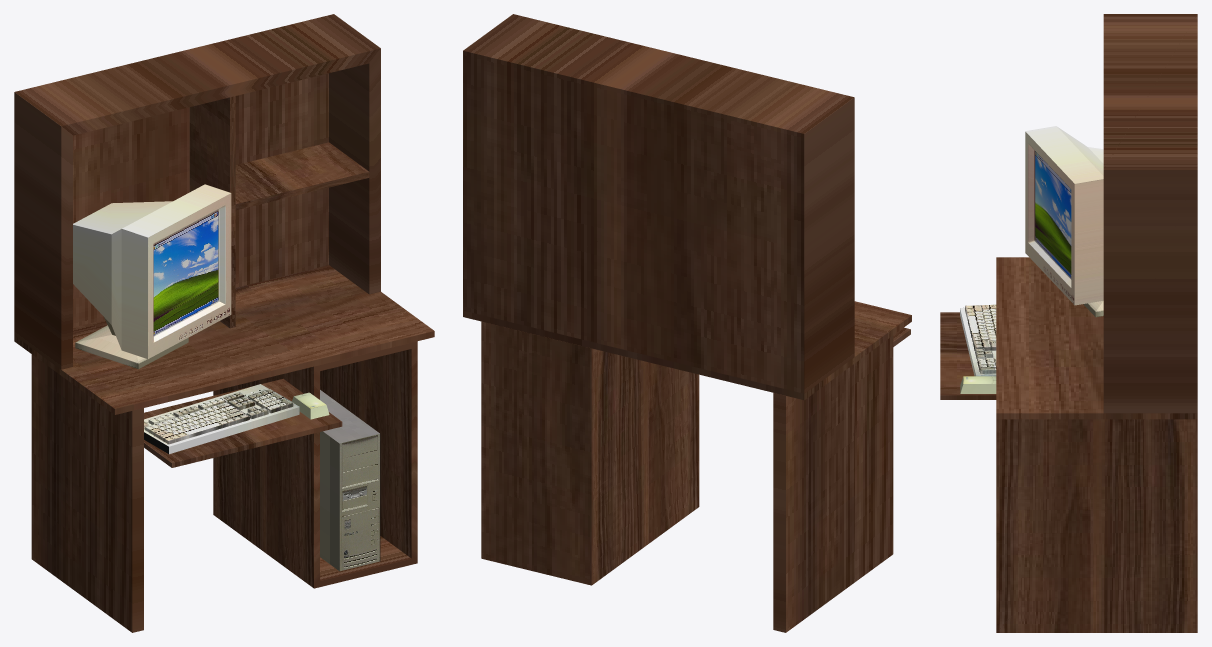
Rendered from computer_station.glb.
The picture shows the model from 3 angles, left to right: view 1: azimuth 30°, elevation 25°; view 2: azimuth 150°, elevation 25°; view 3: azimuth 270°, elevation 25°; orthographic projection. The views are drawn at different scales.
Parts seen in each view (by area): view 1: Object_8, Object_2, Object_6, Object_5, Object_4, Object_7, Object_3; view 2: Object_8, Object_2; view 3: Object_8, Object_2, Object_6, Object_4, Object_3.
Part boxes in pixels (box(x1,y1,x2,y2)): Object_8: box(14, 14, 434, 632); Object_2: box(213, 341, 417, 588); Object_6: box(73, 184, 231, 358); Object_5: box(320, 390, 380, 571); Object_4: box(144, 384, 299, 454); Object_7: box(75, 317, 188, 369); Object_3: box(292, 392, 329, 419); Object_8: box(463, 14, 911, 632); Object_2: box(481, 321, 699, 585); Object_8: box(940, 14, 1197, 419); Object_2: box(996, 419, 1197, 632); Object_6: box(1025, 126, 1103, 305); Object_4: box(960, 304, 996, 376); Object_3: box(960, 376, 996, 393).
Bounding box in the file's own units: 1.1 × 1.55 × 0.7668.
Materials: 7 (7 with a texture image).
